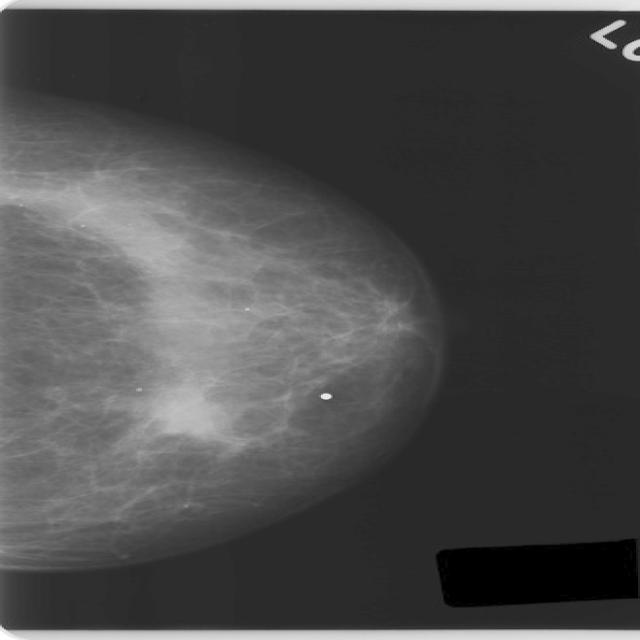tumour: (136, 383, 241, 443)
